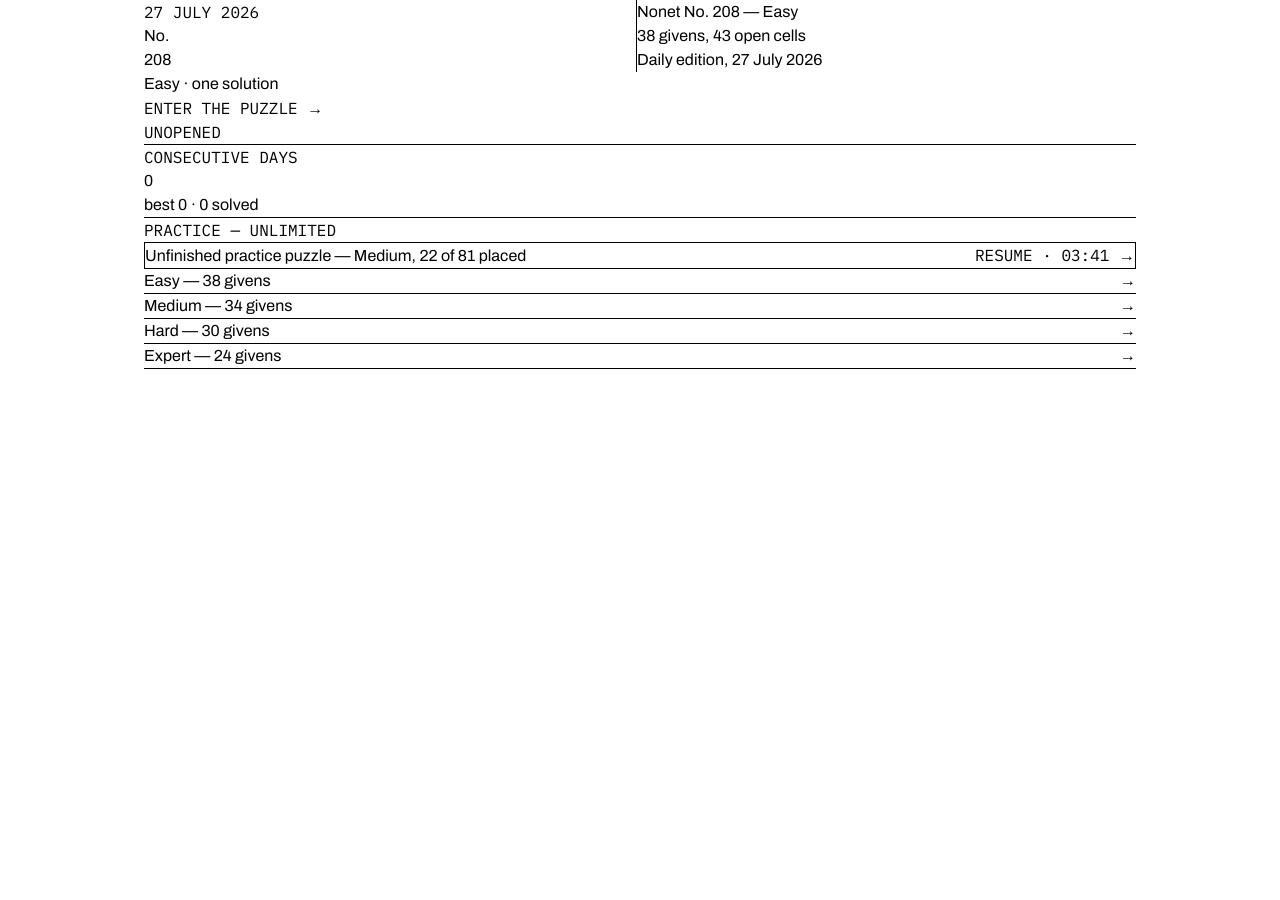
HomeScreen, practice › confirms before discarding an unfinished practice puzzle
The width and height of the screenshot is (1280, 900).
Step 1. Click the button "Hard — 30 givens →" → point(161, 330), box [144,319,1136,344]
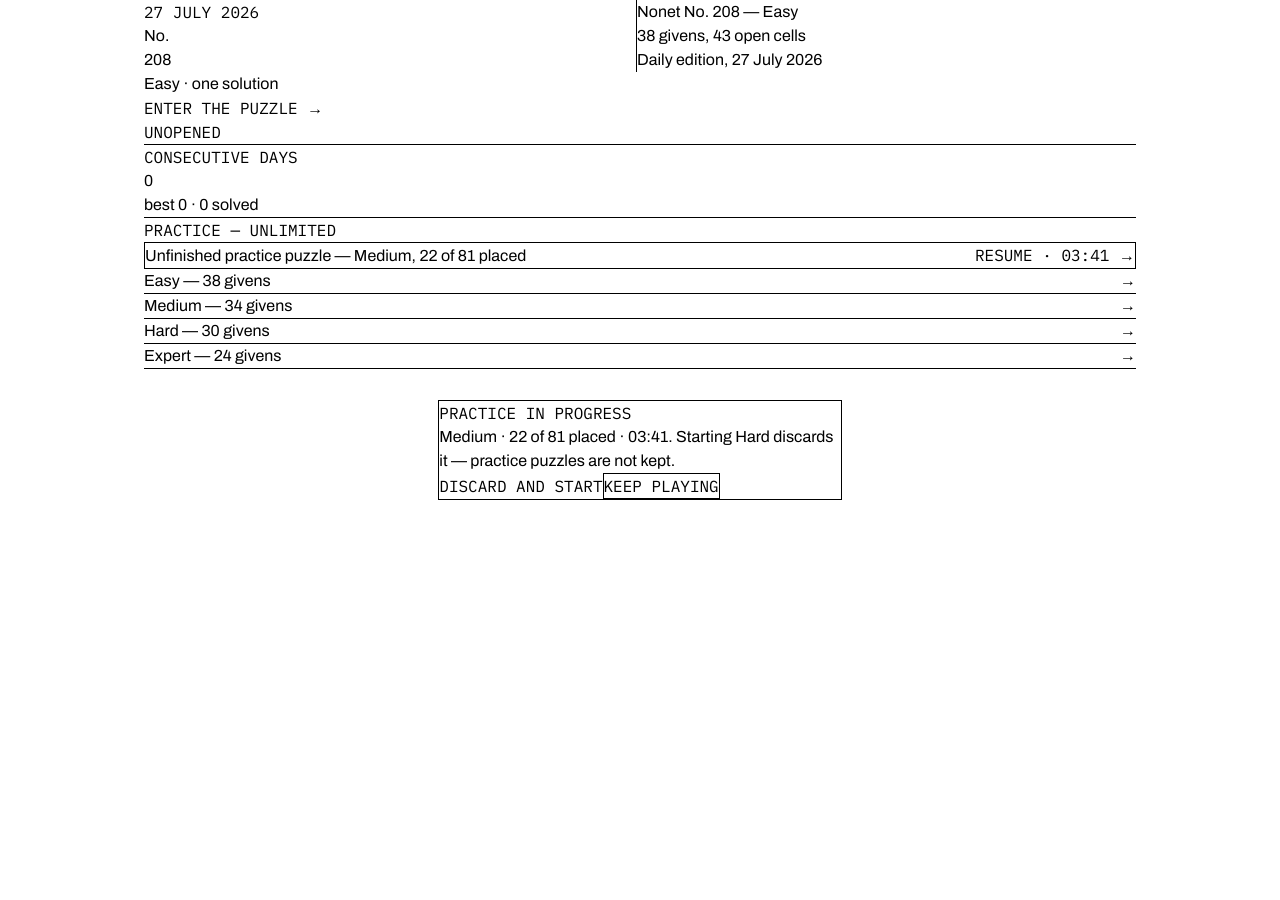
Result: the dialog is shown at [438,400,842,500]
Result: the text "Starting Hard discards it" is shown at [439,425,841,473]
